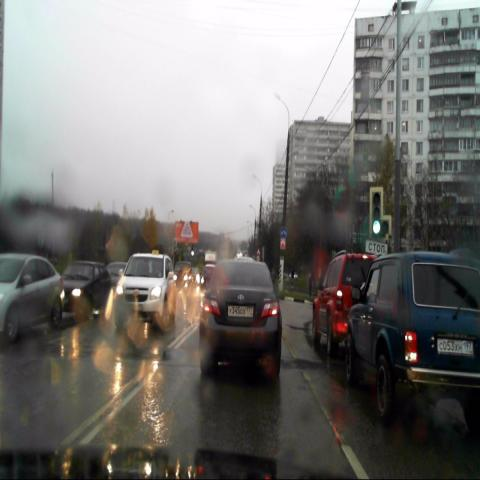4_2_3: (280, 226, 287, 239)
6_16: (366, 239, 388, 257)
